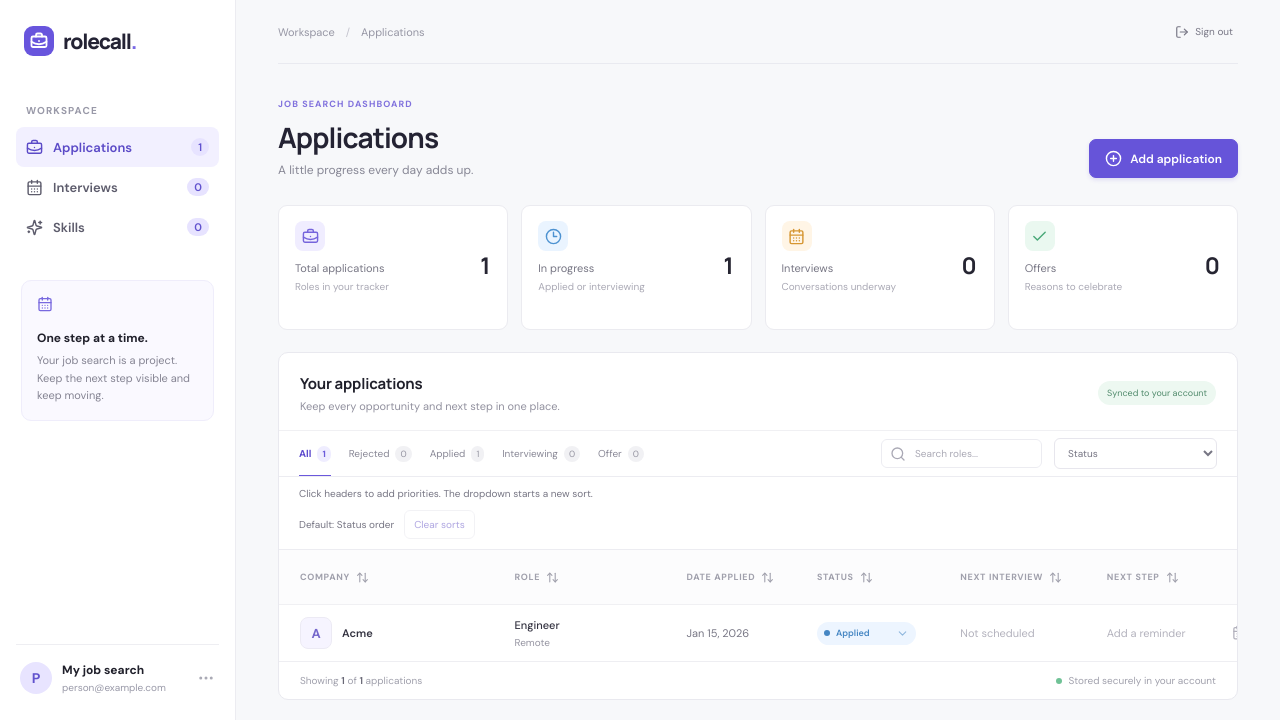
application persistence › updates status from the persisted row and retains it when a later update fails
Select "Interviewing" in the dropdown named "Application status" at coordinates (863, 633), box [836,627,890,639]
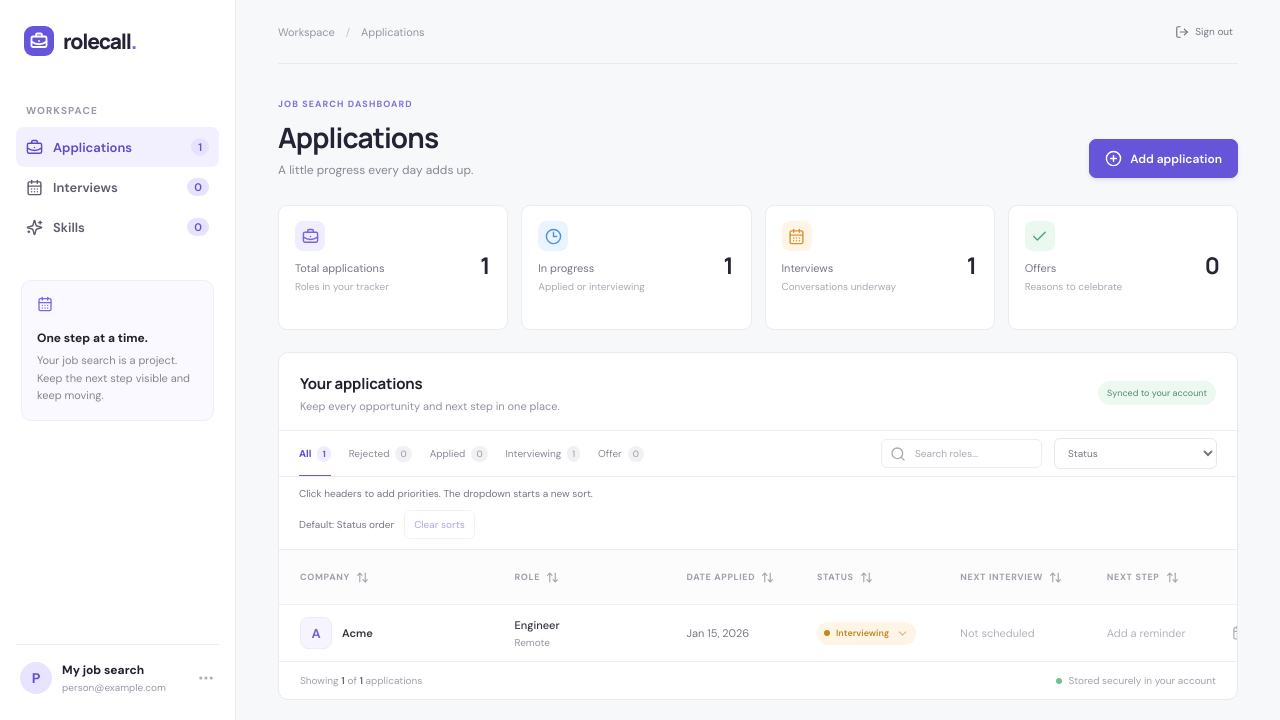
Select "Offer" in the dropdown named "Application status" at coordinates (863, 633), box [836,627,890,639]
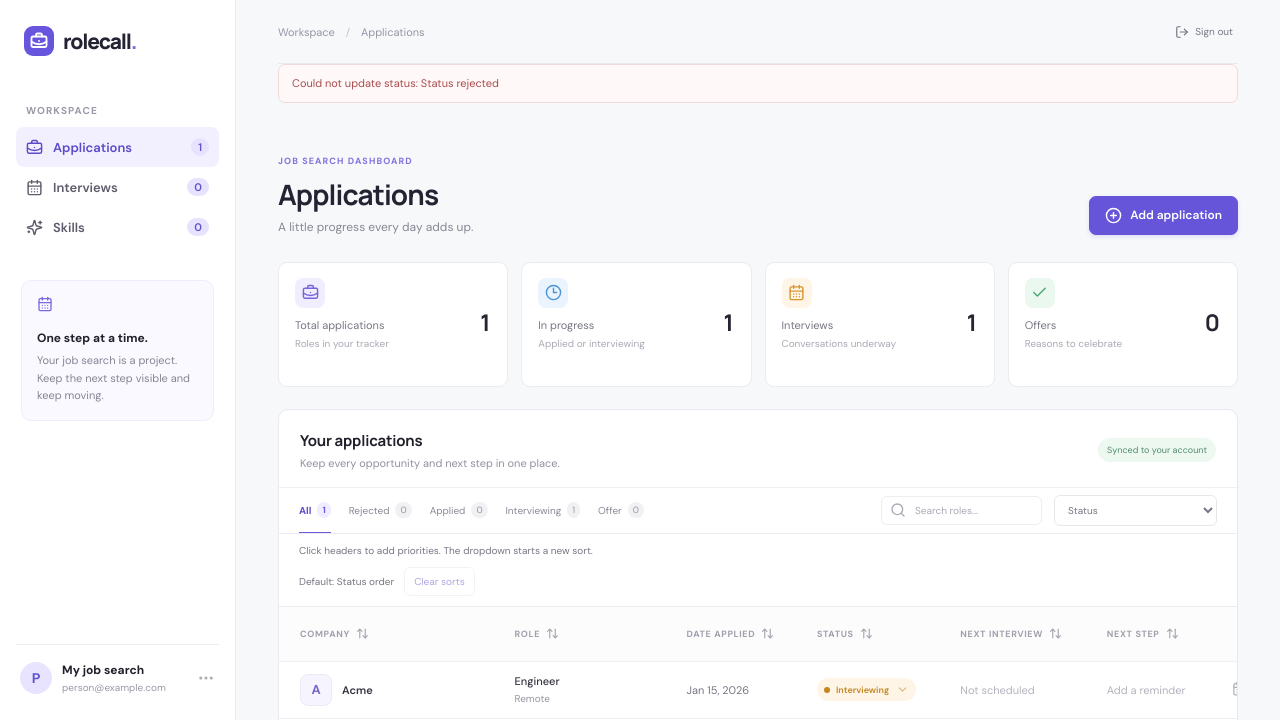
Now the text "Could not update status: Status rejected" is shown, box [278,64,1238,102]
